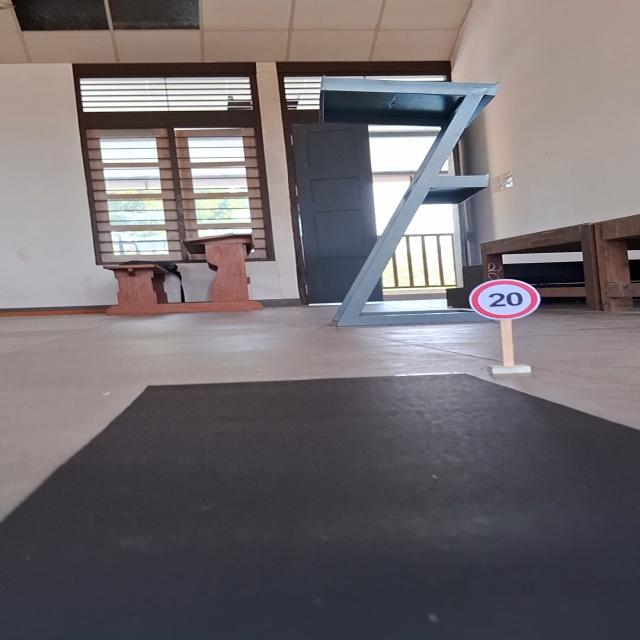Speed20: (464, 274, 544, 324)
